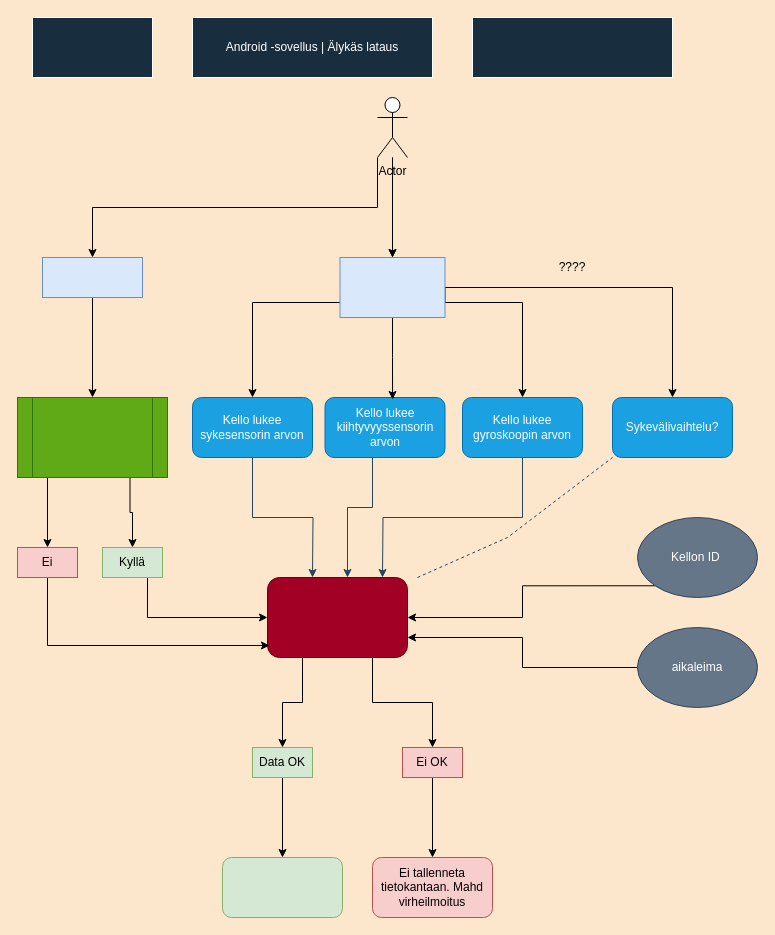
Image size: 775x935. Some labels were removed from this diagram. The shapes that lost their labels are listed below. From the top down, each one's box as (x1, y1, x2, y2) in pixels, then its label:
(32, 16, 152, 78): Android Studio - Wear OS
(472, 16, 672, 78): Christian Antonsson Jere Kemppainen
(42, 256, 142, 298): Käyttäjä avaa sovelluksen
(339, 256, 445, 318): Käyttäjä pitää kelloa ranteessa. Kello kerää dataa
(16, 396, 168, 478): Sovellus kysyy Olisiko nyt hyvä aika ladata kelloa ?
(266, 576, 408, 658): Sovellus kerää datan.
(222, 856, 342, 918): Tallennetaan tietokantaan.
